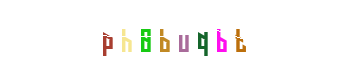0: (128, 0, 208, 80)
B: (140, 0, 220, 80), (162, 0, 242, 80)
H: (105, 0, 185, 80)
P: (98, 0, 178, 80)
Q: (140, 0, 220, 80)
T: (181, 0, 261, 80)
U: (140, 0, 220, 80)
